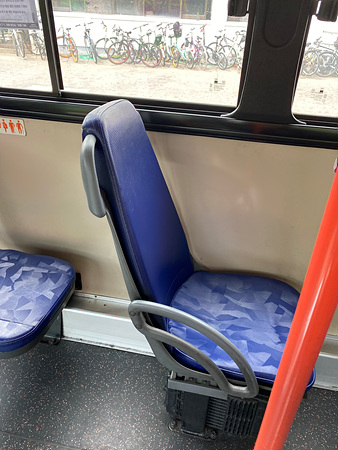seat: (81, 98, 314, 395)
